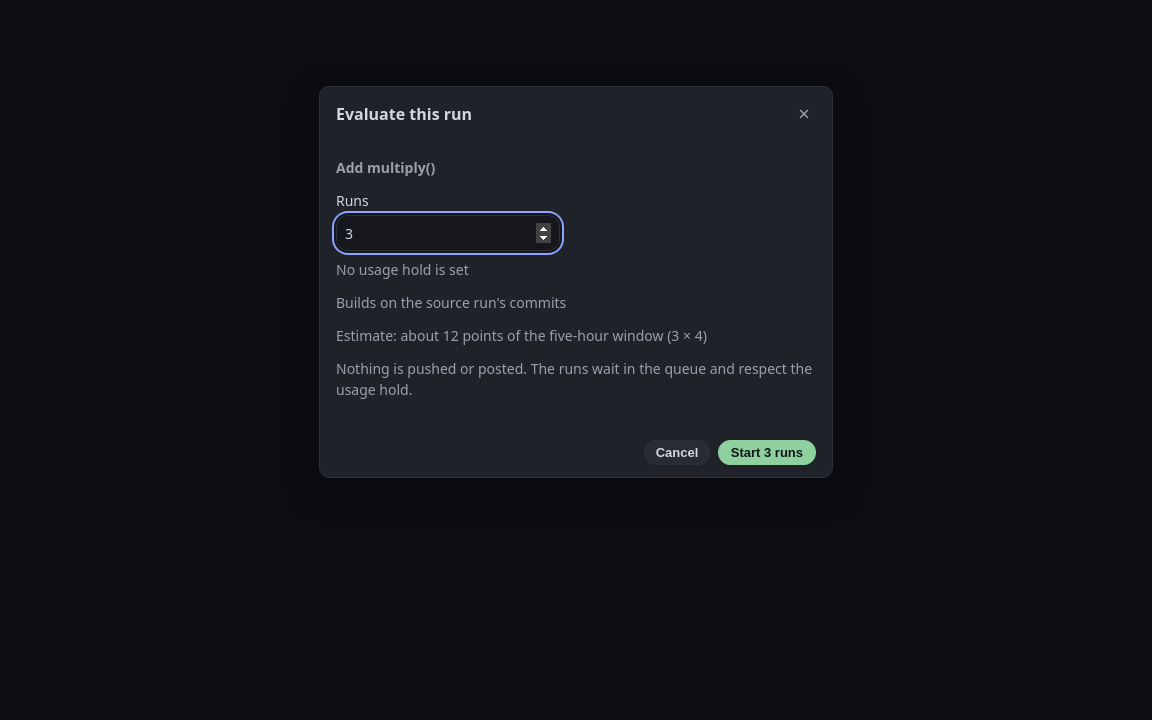
EvalDialog › allows 2 to 10 runs only
Check: the text "Add multiply()" is shown, box [336, 158, 435, 177]
Replace the text in the number field named "Number of runs" with "1" at {"x": 448, "y": 233}, box [336, 215, 560, 251]
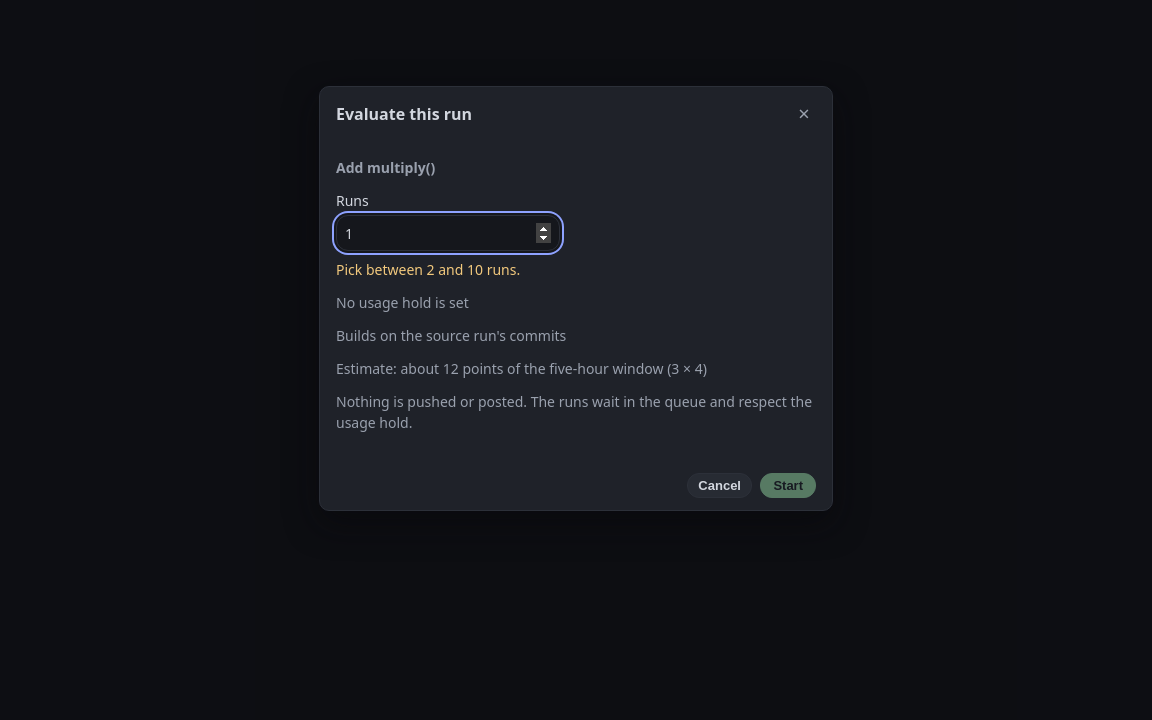
Check: the button "Start" is disabled, box [760, 473, 816, 498]
Check: the text with test id "eval-range" reads "Pick between 2 and 10 runs.", box [336, 260, 520, 279]
Replace the text in the number field named "Number of runs" with "11" at {"x": 448, "y": 233}, box [336, 215, 560, 251]
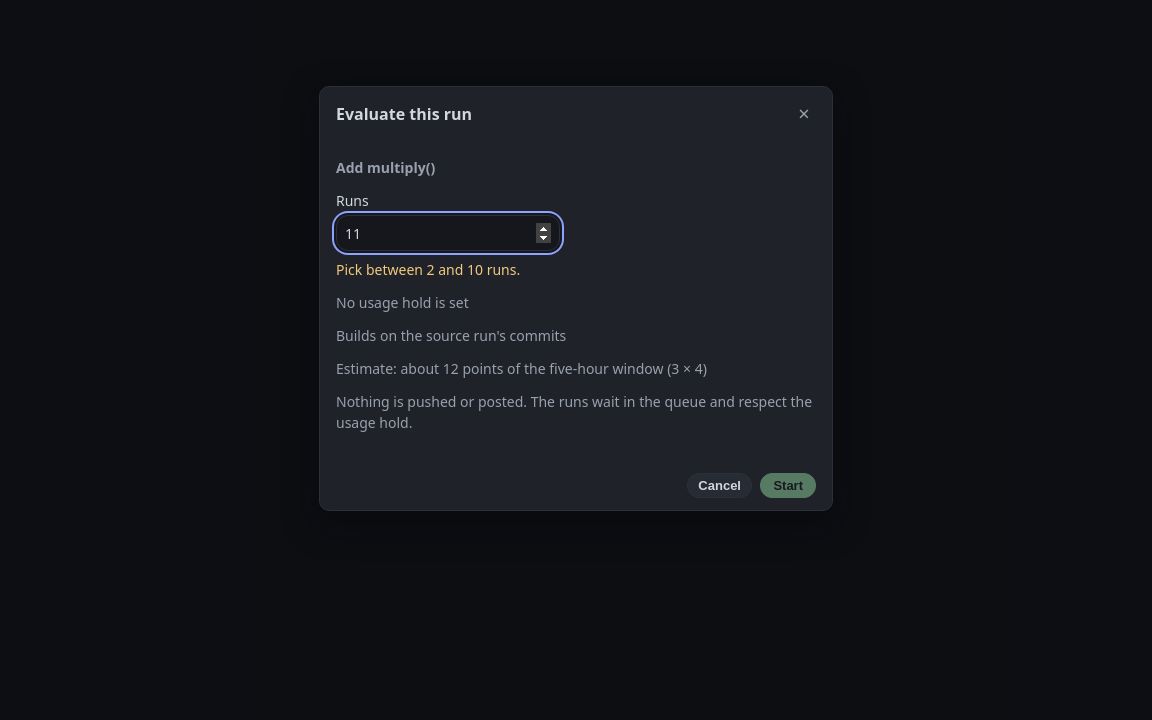
Check: the button "Start" is disabled, box [760, 473, 816, 498]
Check: the text with test id "eval-range" reads "Pick between 2 and 10 runs.", box [336, 260, 520, 279]
Clear the number field named "Number of runs" at {"x": 448, "y": 233}, box [336, 215, 560, 251]
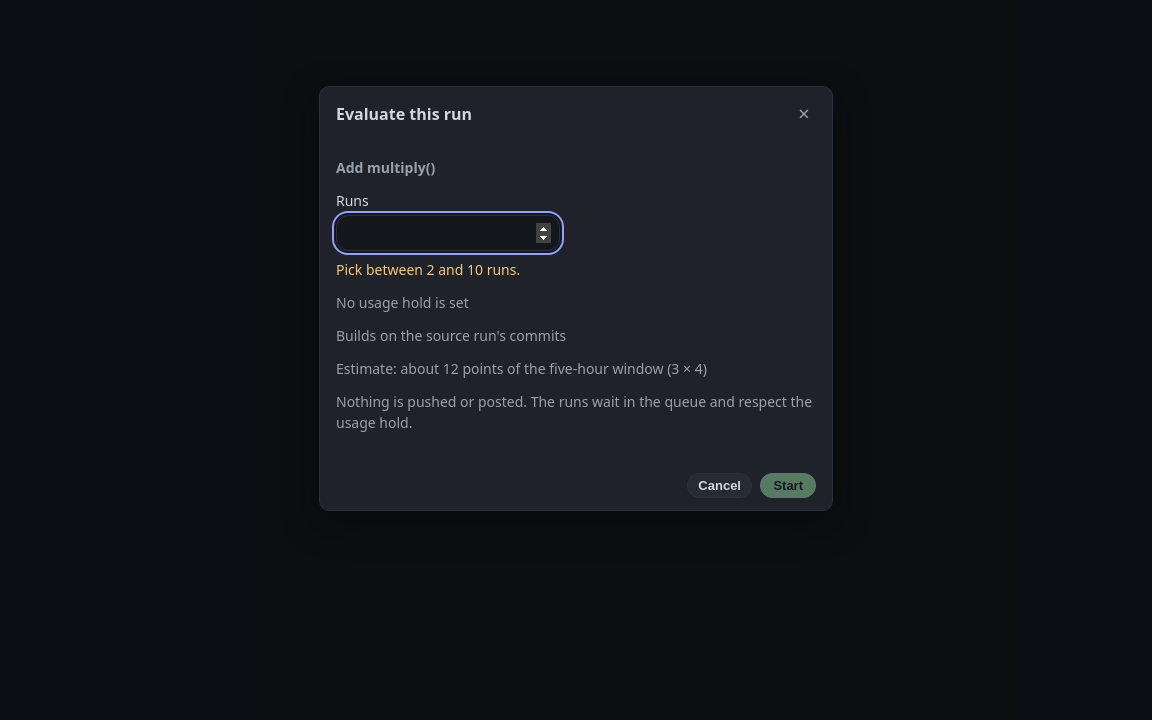
Check: the button "Start" is disabled, box [760, 473, 816, 498]
Check: the text with test id "eval-range" reads "Pick between 2 and 10 runs.", box [336, 260, 520, 279]
Type "10" into the number field named "Number of runs" at {"x": 448, "y": 233}, box [336, 215, 560, 251]
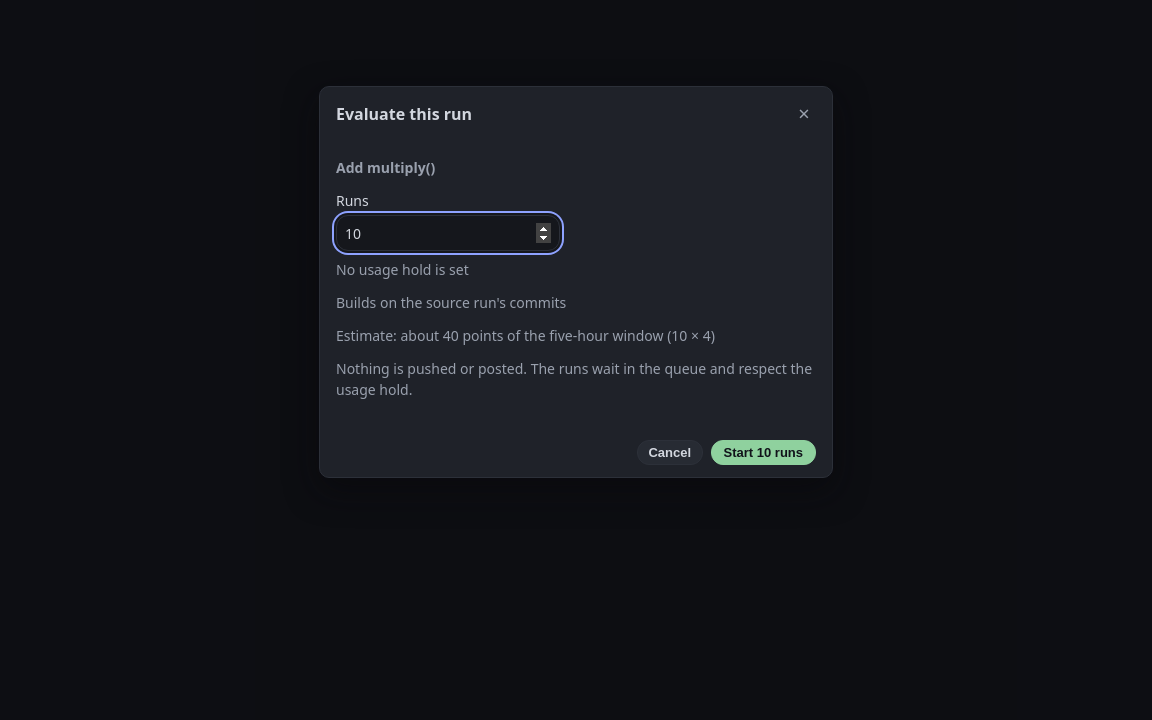
Check: the button "Start 10 runs" is enabled, box [710, 440, 816, 465]
